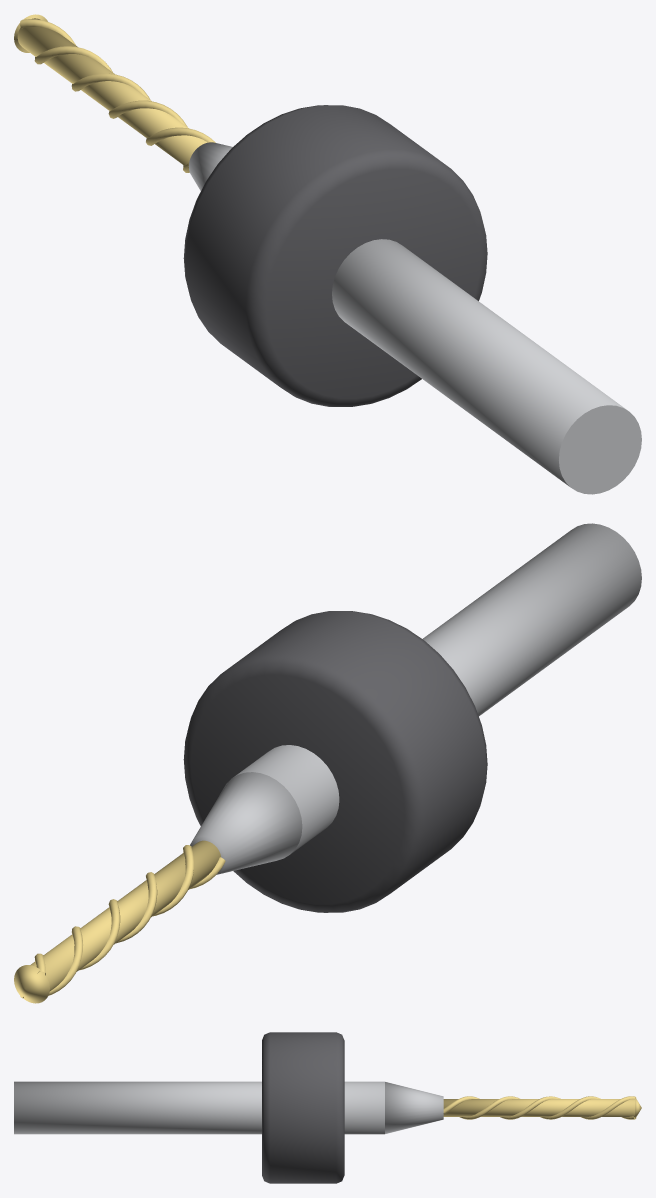
File: drill18_1p4.glb
3 views of the same model, one above another, from view 1: azimuth 30°, elevation 25°; view 2: azimuth 150°, elevation 25°; view 3: azimuth 270°, elevation 25° (orthographic). The views are drawn at different scales.
Parts seen in each view (by area): view 1: Cylinder.002, Cylinder.001, Cylinder, flute, flute.001, Cone; view 2: Cylinder.002, Cylinder.001, Cone, Cylinder, flute.001, flute, Cone.001; view 3: Cylinder.001, Cylinder.002, Cylinder, Cone, flute, flute.001.
Boxes of the visible parts, x1,y1,x2,y2 form: Cylinder.002: (183,105,487,406); Cylinder.001: (332,239,641,494); Cylinder: (17,18,207,167); flute: (20,19,215,145); flute.001: (34,46,189,172); Cone: (188,142,232,190); Cylinder.002: (183,611,487,912); Cylinder.001: (233,523,641,853); Cone: (190,772,302,874); Cylinder: (30,840,220,991); flute.001: (20,857,225,998); flute: (34,845,193,975); Cone.001: (14,965,49,1003); Cylinder.001: (14,1081,384,1134); Cylinder.002: (262,1032,344,1183); Cylinder: (443,1099,634,1116); Cone: (385,1082,443,1133); flute: (443,1096,636,1119); flute.001: (459,1096,636,1119).
Size of the model in its own units: 0.00917 by 0.00917 by 0.038.
